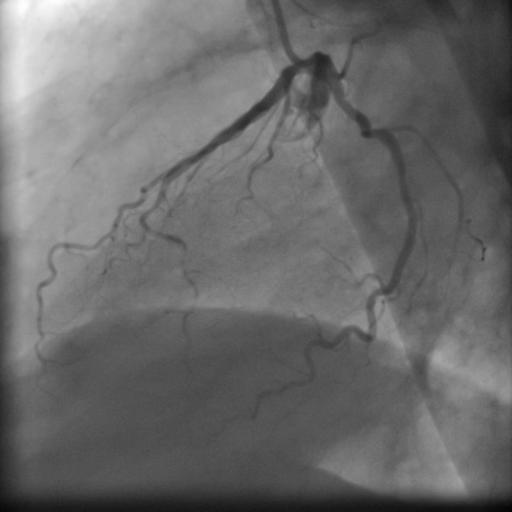Stenosis: (358, 112, 380, 148)
